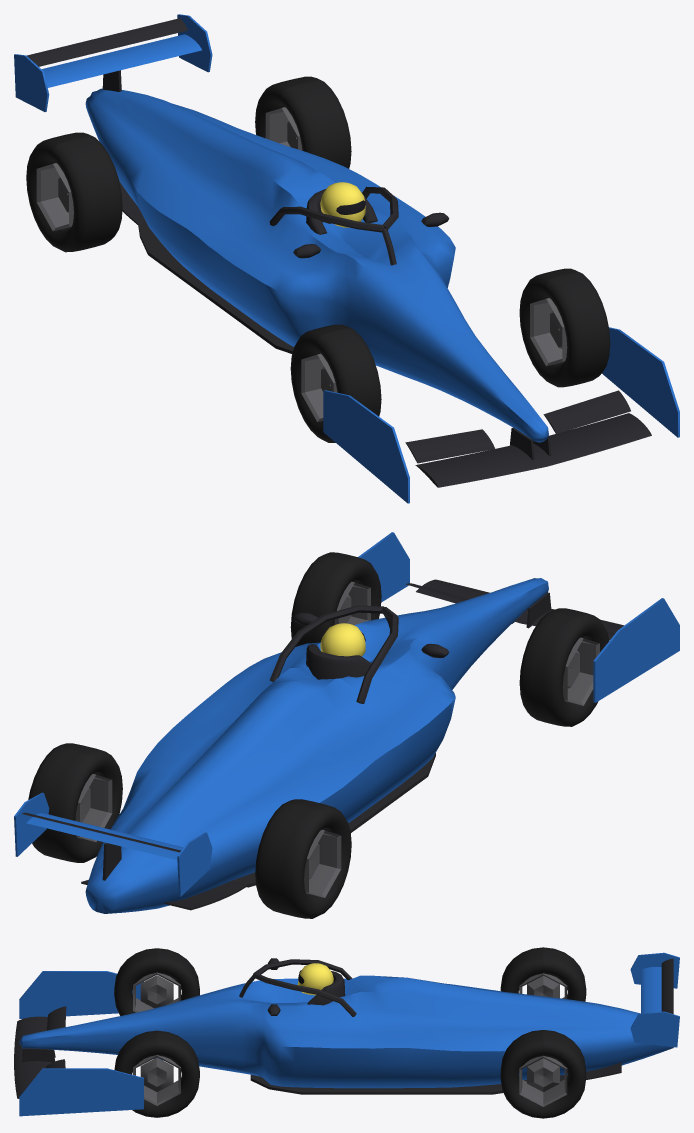
3 renders of one model, top to bottom at view 1: azimuth 30°, elevation 25°; view 2: azimuth 150°, elevation 25°; view 3: azimuth 270°, elevation 25°, orthographic. The views are drawn at different scales.
Parts seen in each view (by area): view 1: body, carbon, tyre_RR, tyre_FL, tyre_FR, tyre_RL, rim_RR, rim_FL, rim_FR, helmet, rim_RL; view 2: body, carbon, tyre_RR, tyre_FR, tyre_RL, tyre_FL, rim_RR, rim_FR, rim_RL, helmet, rim_FL; view 3: body, carbon, tyre_RL, tyre_FL, tyre_FR, tyre_RR, rim_RL, rim_FL, rim_FR, rim_RR, helmet.
Part boxes in pixels (bbox=[...]): body: bbox=[14, 14, 679, 503]; carbon: bbox=[27, 18, 651, 487]; tyre_RR: bbox=[26, 132, 122, 252]; tyre_FL: bbox=[519, 268, 610, 387]; tyre_FR: bbox=[290, 324, 381, 442]; tyre_RL: bbox=[255, 76, 351, 168]; rim_RR: bbox=[36, 163, 73, 231]; rim_FL: bbox=[530, 298, 567, 366]; rim_FR: bbox=[301, 353, 337, 421]; helmet: bbox=[320, 182, 365, 227]; rim_RL: bbox=[265, 107, 302, 150]; body: bbox=[14, 532, 679, 913]; carbon: bbox=[22, 579, 623, 910]; tyre_RR: bbox=[255, 799, 351, 918]; tyre_FR: bbox=[519, 608, 609, 726]; tyre_RL: bbox=[28, 743, 122, 862]; tyre_FL: bbox=[290, 552, 381, 646]; rim_RR: bbox=[304, 829, 341, 897]; rim_FR: bbox=[562, 637, 599, 705]; rim_RL: bbox=[75, 774, 112, 841]; helmet: bbox=[320, 623, 365, 656]; rim_FL: bbox=[334, 581, 370, 625]; body: bbox=[19, 952, 679, 1116]; carbon: bbox=[14, 958, 673, 1098]; tyre_RL: bbox=[500, 1030, 586, 1118]; tyre_FL: bbox=[114, 1030, 199, 1117]; tyre_FR: bbox=[114, 948, 199, 1015]; tyre_RR: bbox=[500, 947, 586, 1001]; rim_RL: bbox=[519, 1055, 567, 1106]; rim_FL: bbox=[133, 1055, 180, 1105]; rim_FR: bbox=[133, 972, 180, 1012]; rim_RR: bbox=[519, 973, 567, 998]; helmet: bbox=[297, 963, 333, 995].
Bounding box in the file's own units: 1.8 × 0.9097 × 5.12.
